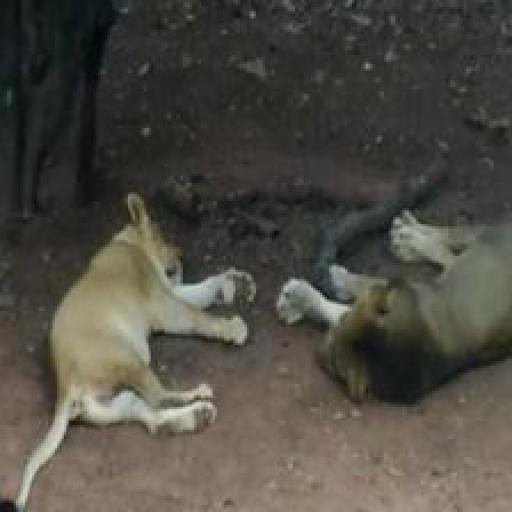Tiger: (0, 178, 261, 512)
